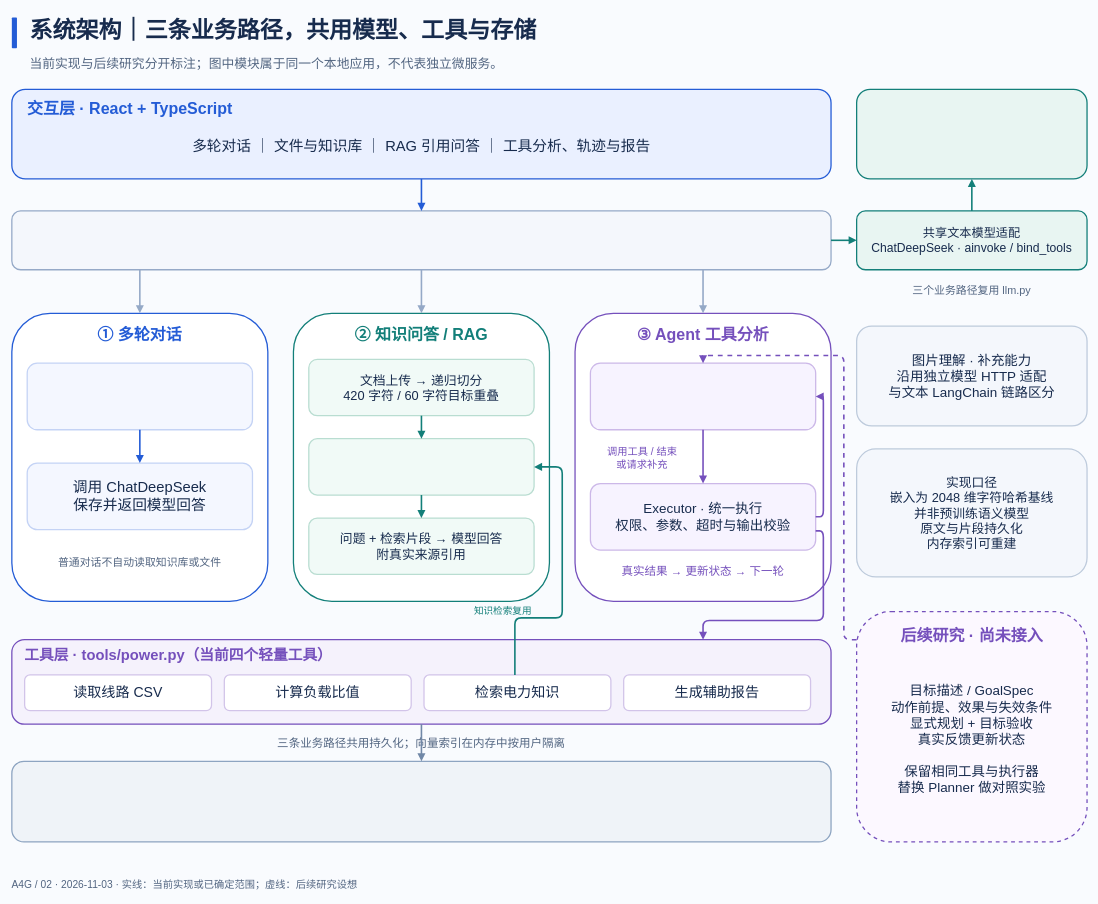
Some shapes in this 1098 by 904 pixel diagram are drawn without their labels. Each missing label, with the box of its shape:
Planner · 当前为 LLM Tool Calling decide(context) 选择下一步: (589, 362, 816, 430)
取出同一会话历史 组合本轮提问: (26, 362, 253, 430)
外部模型服务 DeepSeek API: (856, 88, 1087, 179)
字符哈希嵌入 → 向量检索 InMemoryVectorStore: (308, 438, 534, 495)
服务入口 · FastAPI / 登录会话、用户隔离、文件与任务接口: (11, 210, 831, 270)
本地存储 · SQLite + 本地文件 用户与会话、原文与片段、任务状态、执行轨迹、分析产物与报告: (11, 760, 831, 842)
